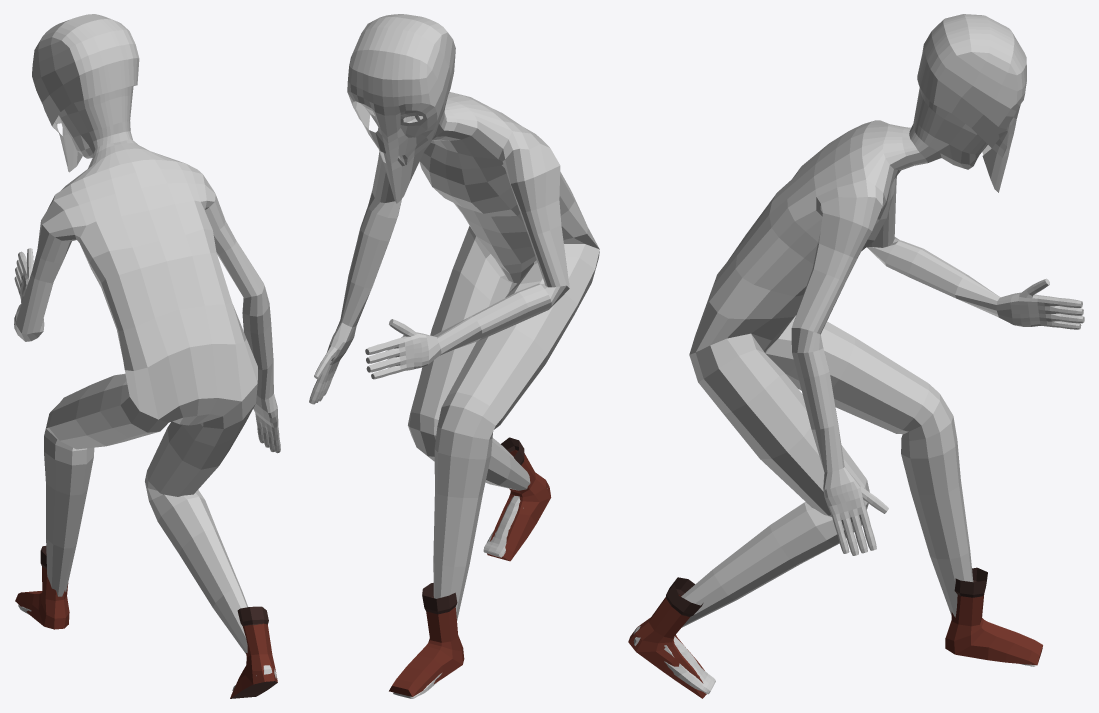
File: saltoadelante_000142.obj
3 views of the same model, side by side, from view 1: azimuth 30°, elevation 25°; view 2: azimuth 150°, elevation 25°; view 3: azimuth 270°, elevation 25° (orthographic). The views are drawn at different scales.
Visible parts, largest first — view 1: Plane.002_Plane.001, Plane.003, Plane.004; view 2: Plane.002_Plane.001, Plane.004, Plane.003; view 3: Plane.002_Plane.001, Plane.004, Plane.003.
Boxes of the visible parts, x1,y1,x2,y2 form: Plane.002_Plane.001: (14,14,280,690); Plane.003: (230,606,277,698); Plane.004: (15,546,69,629); Plane.002_Plane.001: (309,14,599,698); Plane.004: (389,583,464,696); Plane.003: (487,437,551,561); Plane.002_Plane.001: (633,14,1084,694); Plane.004: (945,567,1042,665); Plane.003: (628,577,706,698).
Size of the model in its own units: 2.41 by 5.6 by 3.53.
